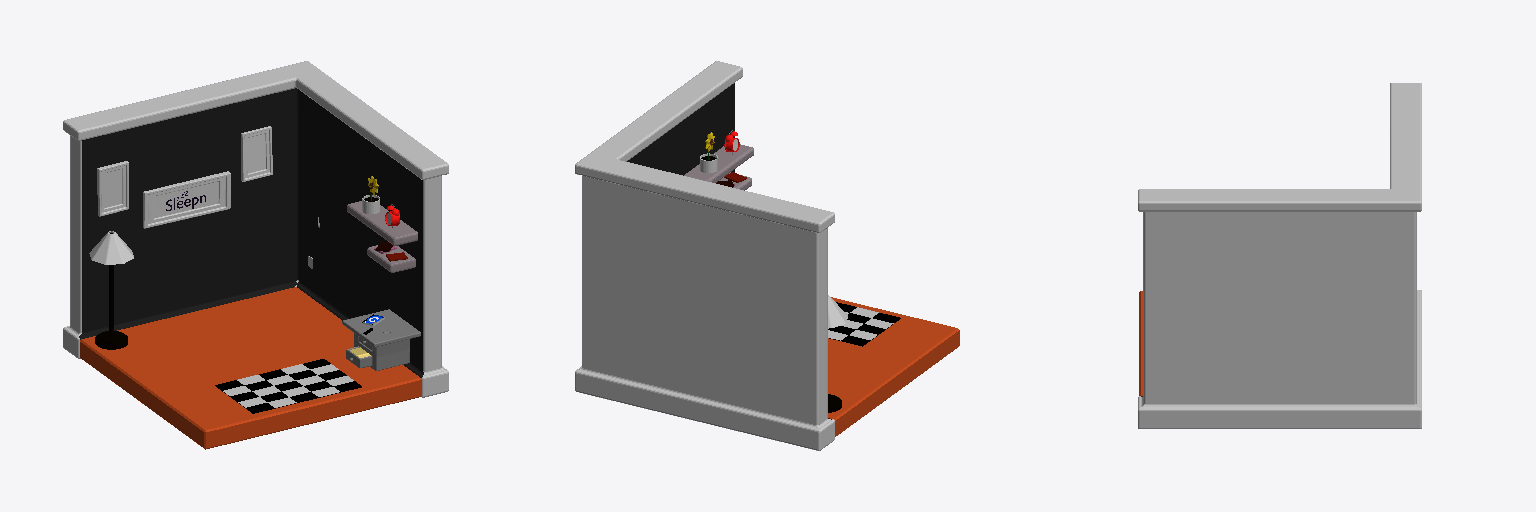
3 views of the same model, side by side, from view 1: azimuth 30°, elevation 25°; view 2: azimuth 150°, elevation 25°; view 3: azimuth 270°, elevation 25° (orthographic).
Visible parts, largest first — view 1: Room_Walls_Cube.001, Plane_Plane.001, Rug_Plane.017, Frame2_Cube.007, Nightstand_Plane.015, RoomLamp_Cylinder, Frame3_Cube.008, Frame1_Cube.006, Top_Shelf_Cube.005, Bottom_Shelf_Cube.011; view 2: Room_Walls_Cube.001, Plane_Plane.001, Rug_Plane.017, Top_Shelf_Cube.005, RoomLamp_Cylinder; view 3: Room_Walls_Cube.001.
Boxes of the visible parts, x1,y1,x2,y2 form: Room_Walls_Cube.001: [63, 61, 448, 397]; Plane_Plane.001: [80, 287, 421, 449]; Rug_Plane.017: [215, 359, 361, 413]; Frame2_Cube.007: [143, 171, 230, 228]; Nightstand_Plane.015: [342, 309, 420, 370]; RoomLamp_Cylinder: [89, 231, 133, 349]; Frame3_Cube.008: [241, 126, 272, 181]; Frame1_Cube.006: [97, 161, 128, 216]; Top_Shelf_Cube.005: [347, 201, 417, 245]; Bottom_Shelf_Cube.011: [367, 245, 415, 272]; Room_Walls_Cube.001: [575, 61, 834, 450]; Plane_Plane.001: [828, 297, 959, 436]; Rug_Plane.017: [828, 302, 900, 346]; Top_Shelf_Cube.005: [684, 144, 753, 182]; RoomLamp_Cylinder: [828, 295, 847, 412]; Room_Walls_Cube.001: [1138, 83, 1421, 428].
Size of the model in its own units: 2.26 by 2 by 2.26.
21 materials, 1 textured.